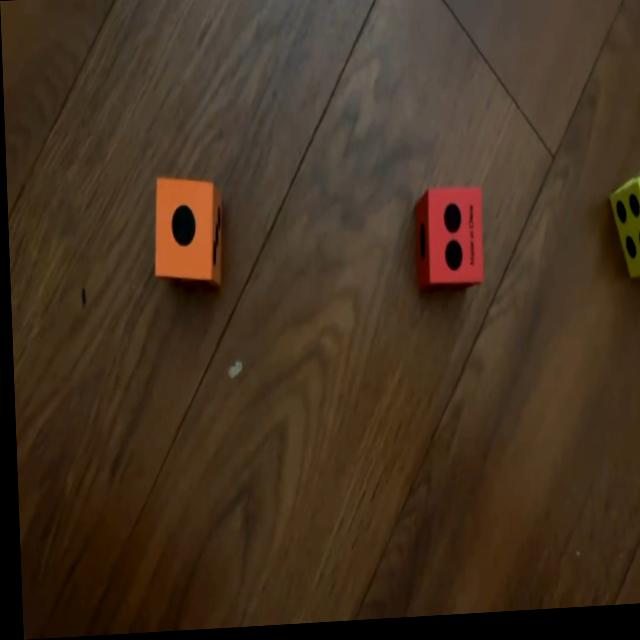red_block: (411, 193, 485, 292)
